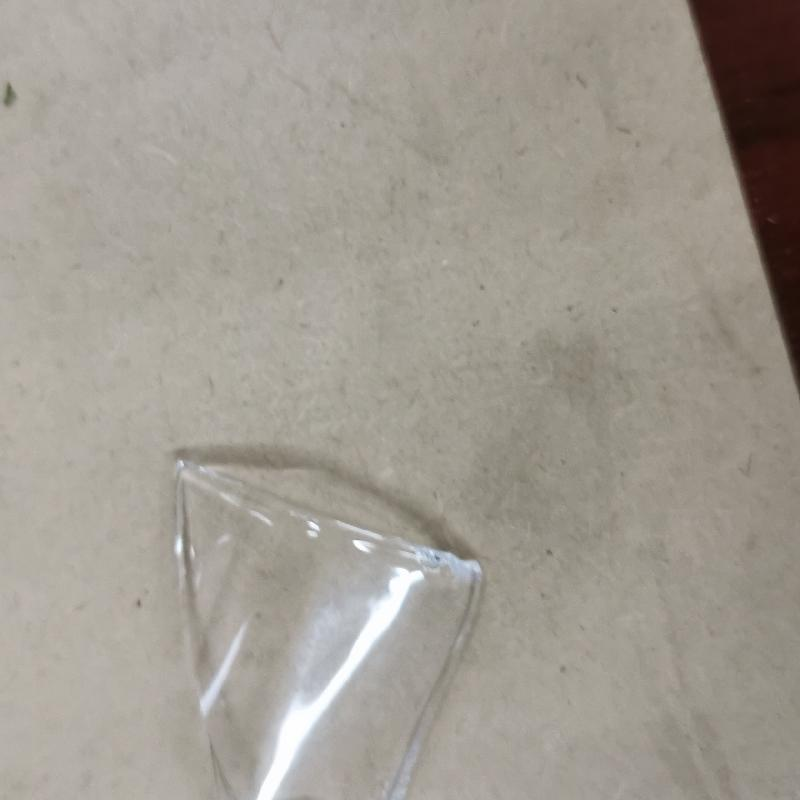glass: (159, 458, 485, 800)
